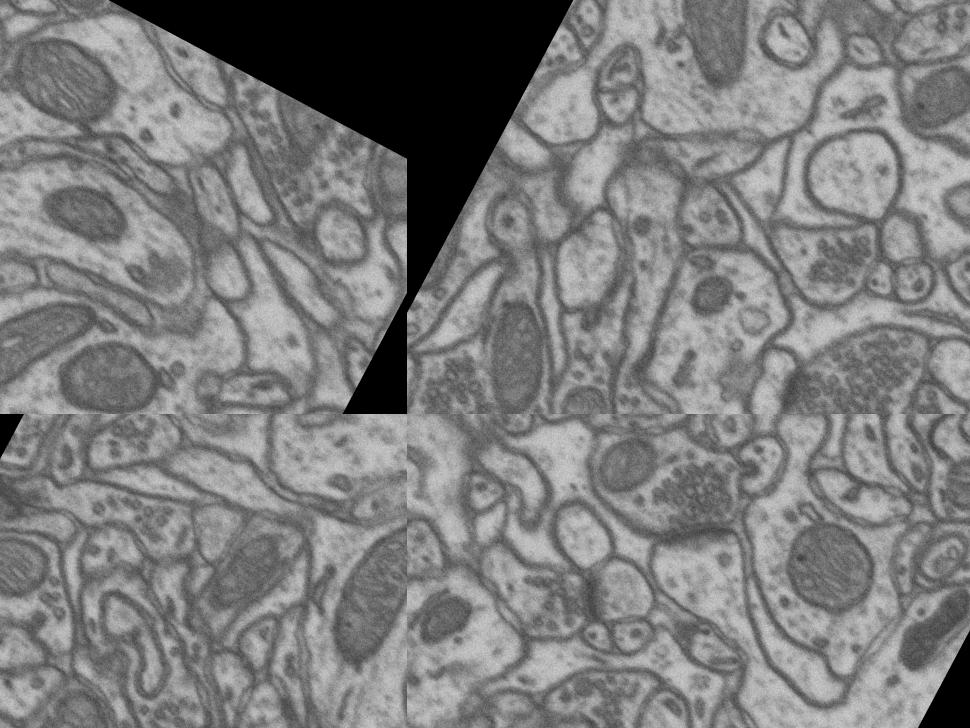mitochondria: (305, 483, 407, 688), (760, 495, 901, 637), (622, 0, 803, 108), (0, 11, 138, 144), (444, 284, 577, 414), (0, 261, 102, 414), (35, 314, 175, 414), (188, 518, 290, 632), (30, 164, 142, 262), (238, 86, 345, 182), (584, 414, 682, 508), (416, 188, 493, 306), (891, 39, 970, 151), (511, 365, 665, 414), (407, 580, 482, 670), (672, 255, 750, 338), (0, 521, 57, 613), (27, 679, 133, 728), (352, 144, 407, 238), (925, 443, 970, 533), (35, 0, 115, 28)
